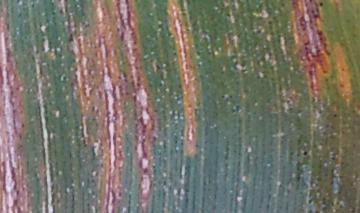tarspot: (301, 149, 310, 156)
